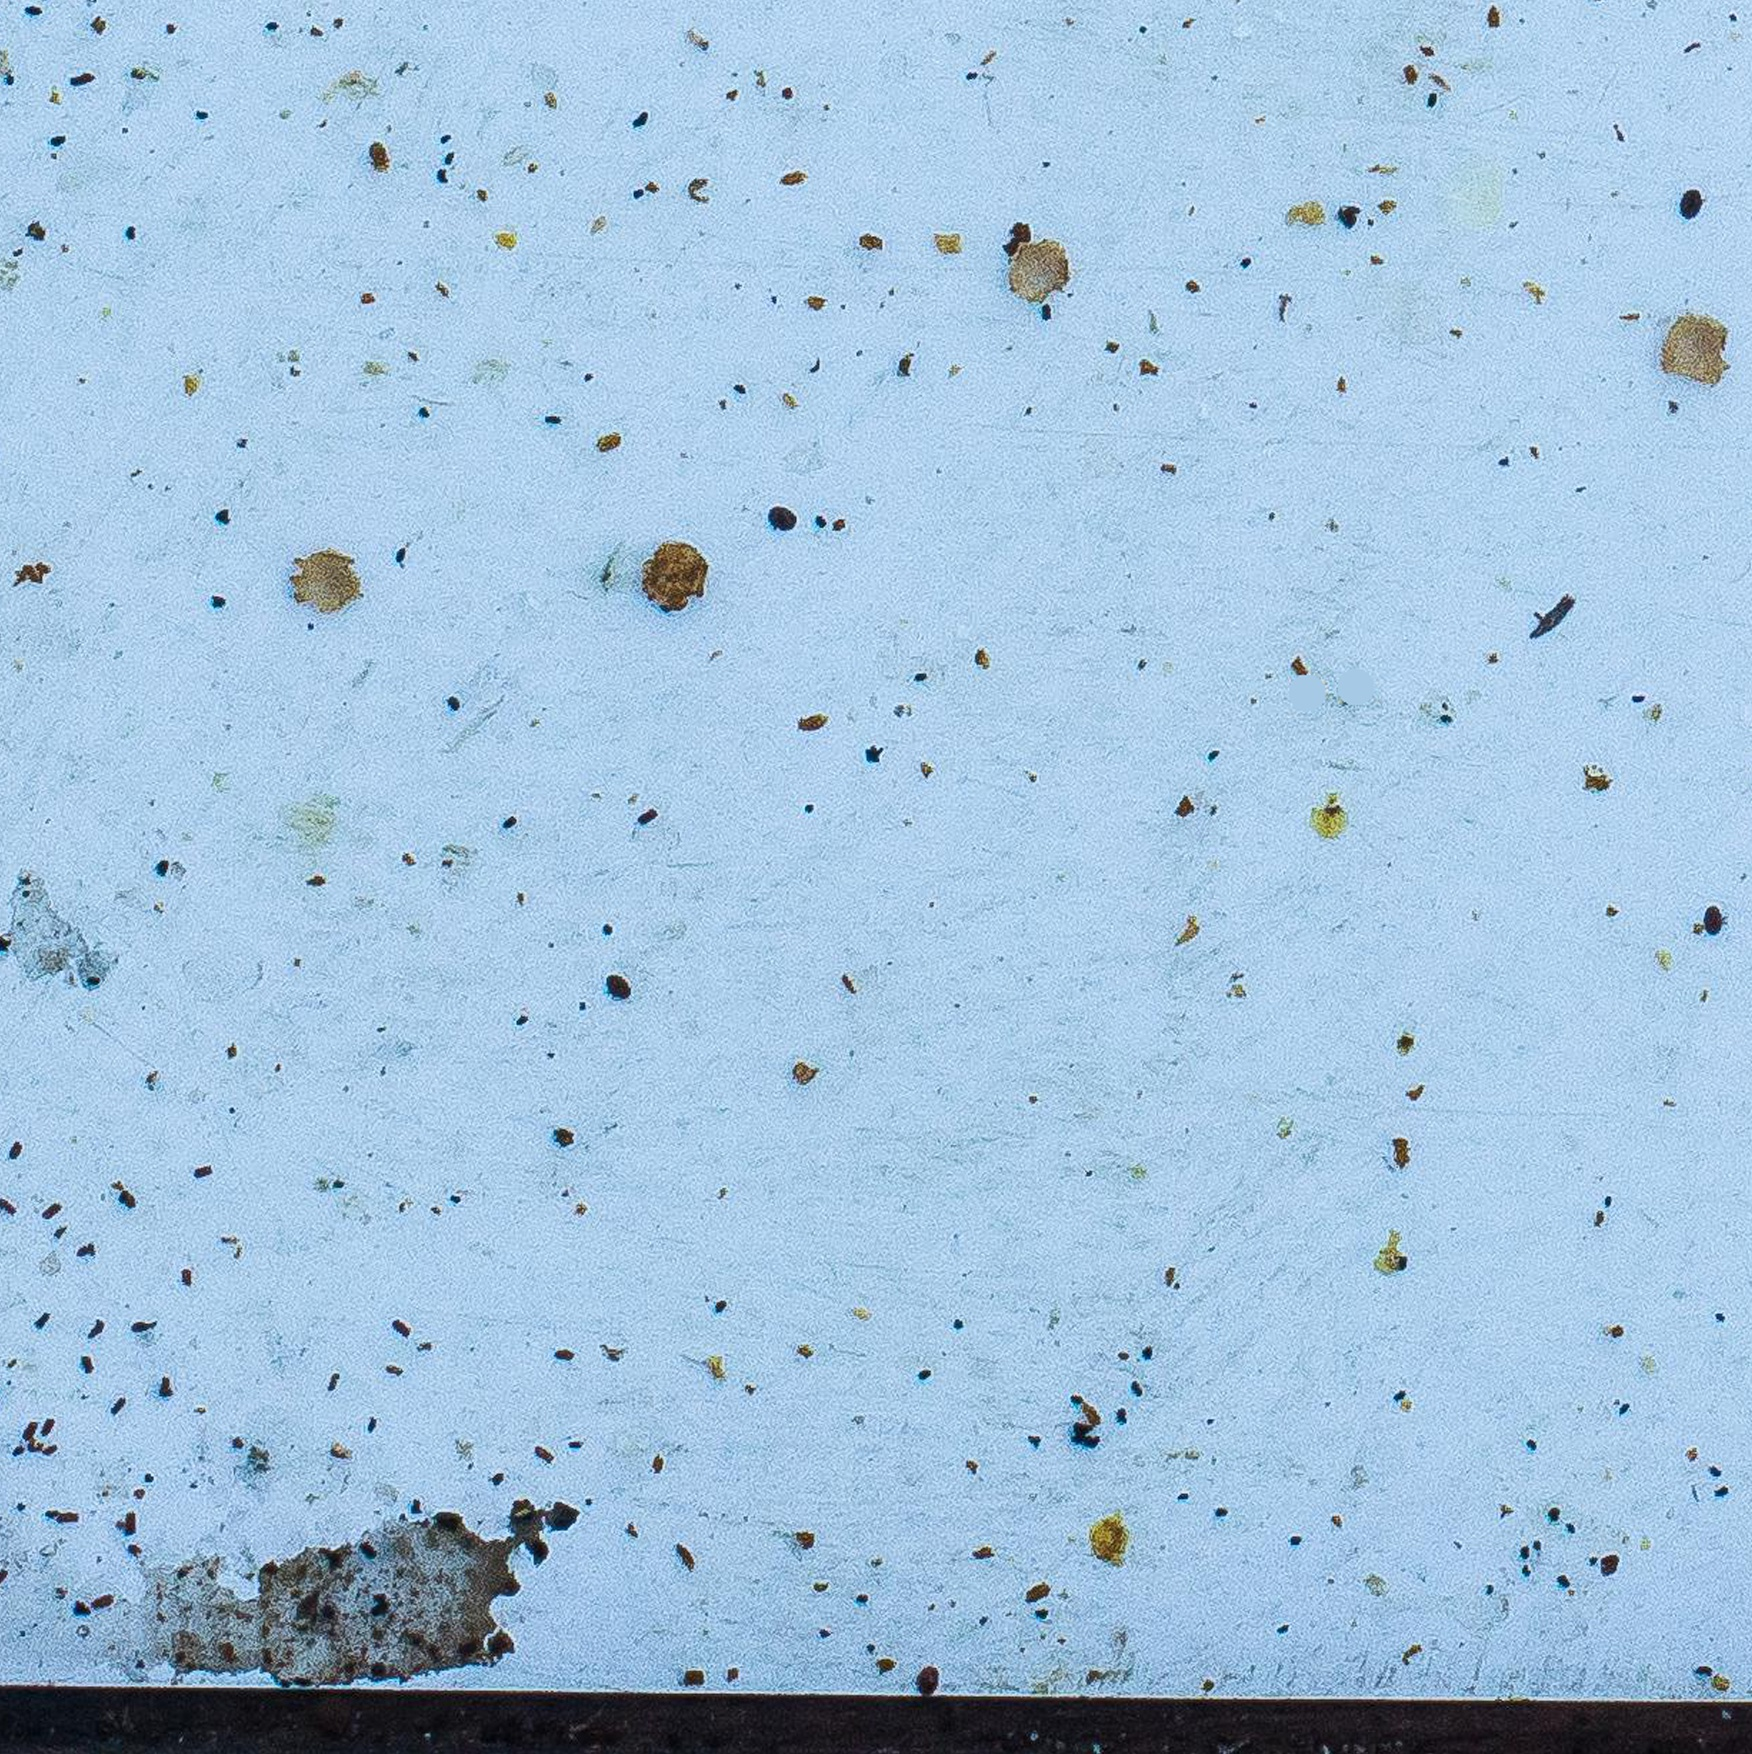Varroa: (1670, 183, 1702, 215), (769, 502, 799, 534), (602, 974, 631, 1005), (1697, 905, 1726, 934), (919, 1659, 945, 1685)
